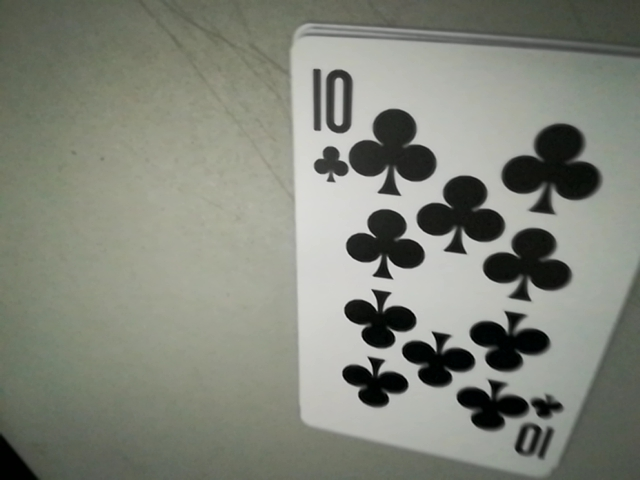mh 10: (296, 47, 362, 182), (493, 395, 571, 463)
